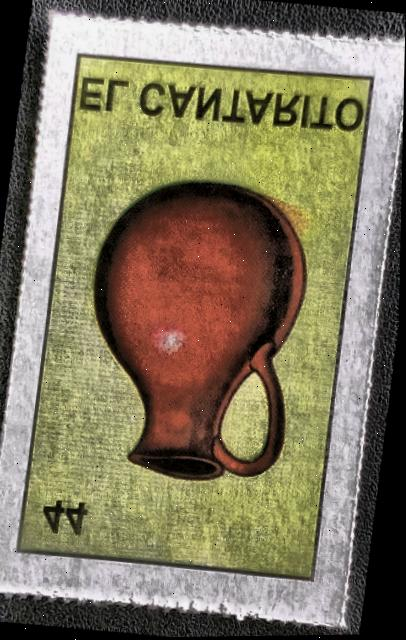El Cantarito: (0, 18, 403, 619)
